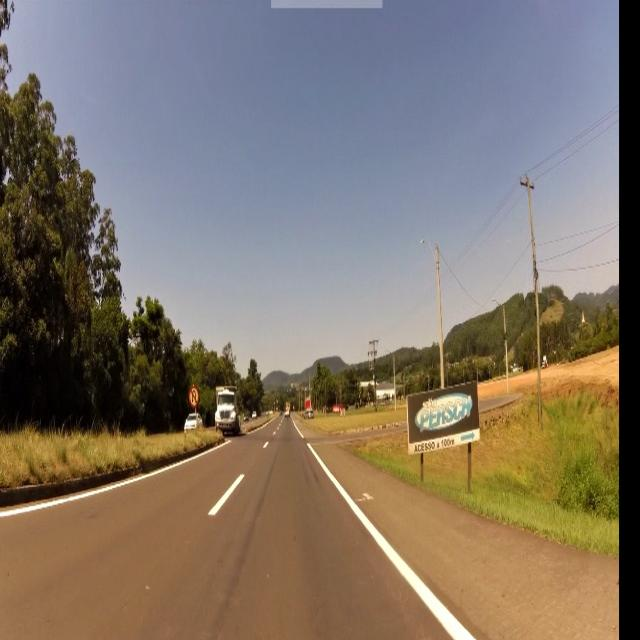R-5a: (191, 386, 200, 407)
